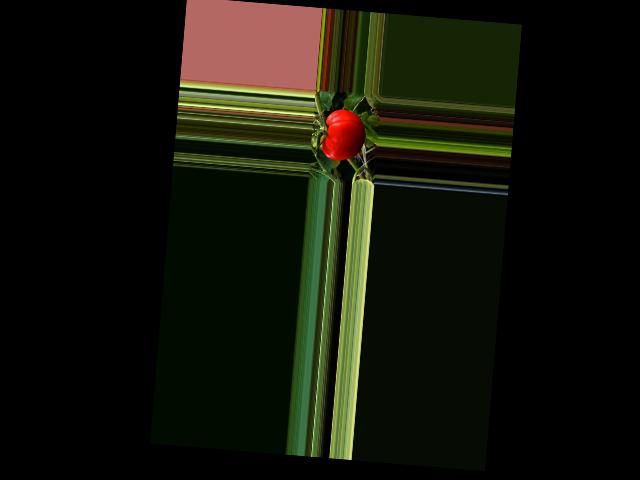tomato: (321, 108, 367, 162)
